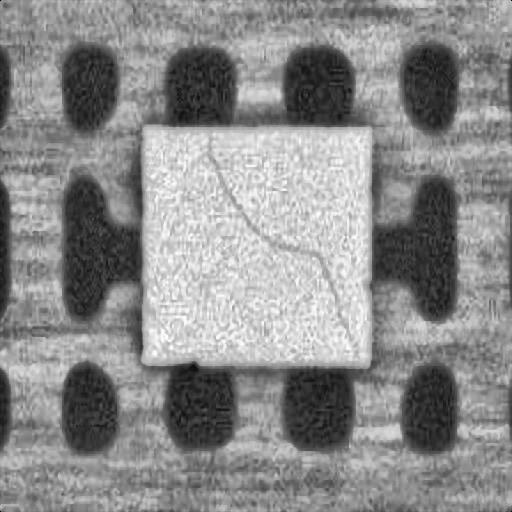DIE_CRACK: (207, 135, 356, 353)
